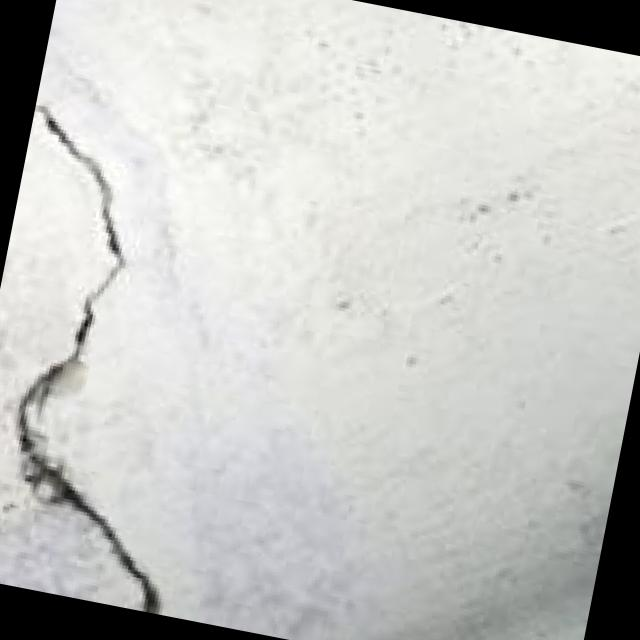crack: (0, 79, 292, 618)
